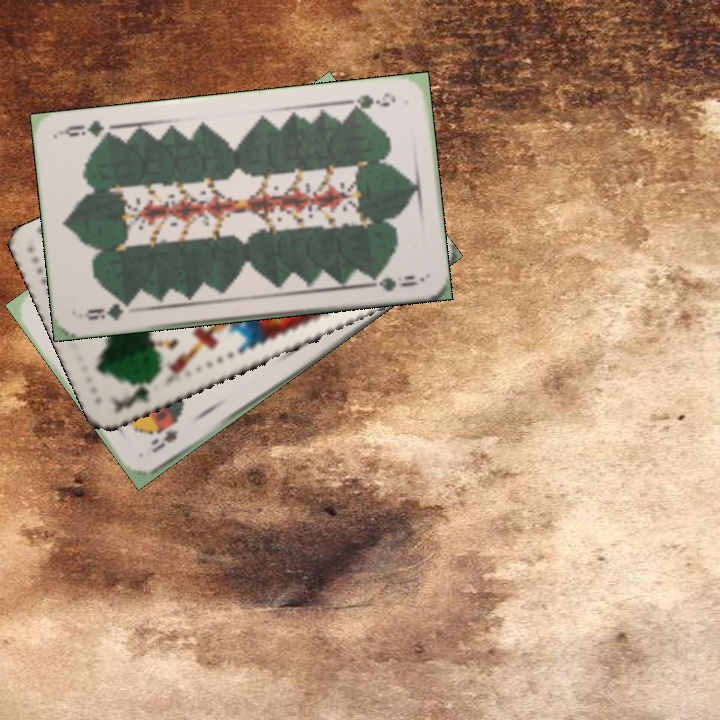G9: (80, 297, 134, 323), (345, 88, 399, 114)
GK: (109, 377, 158, 415)
SO: (146, 425, 181, 456)
